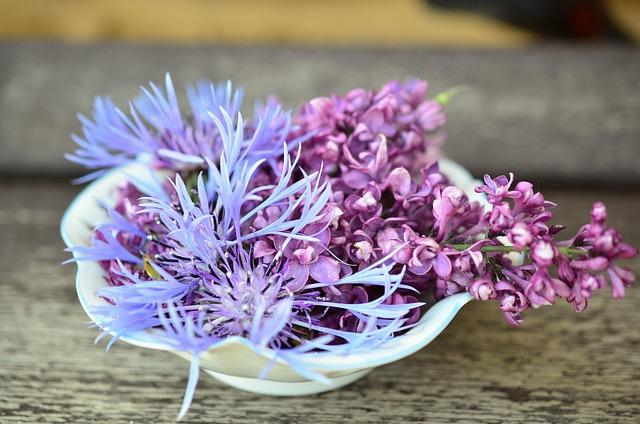Non_Gorille: (50, 39, 559, 400)
